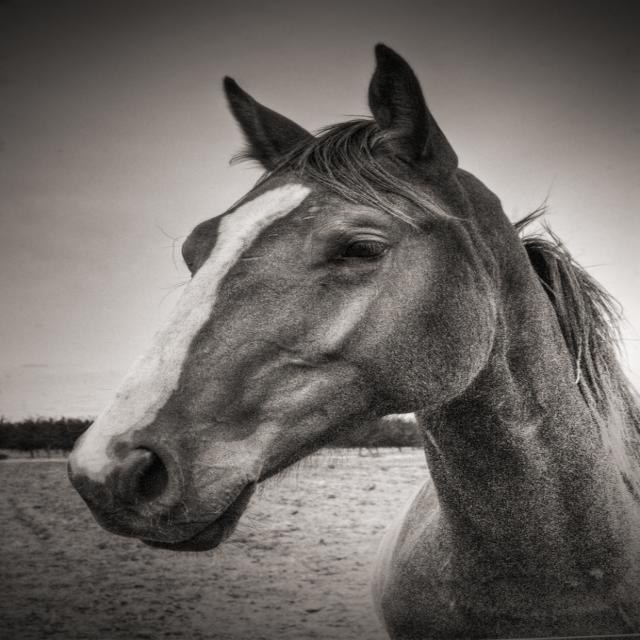Horse: (66, 40, 640, 640)
